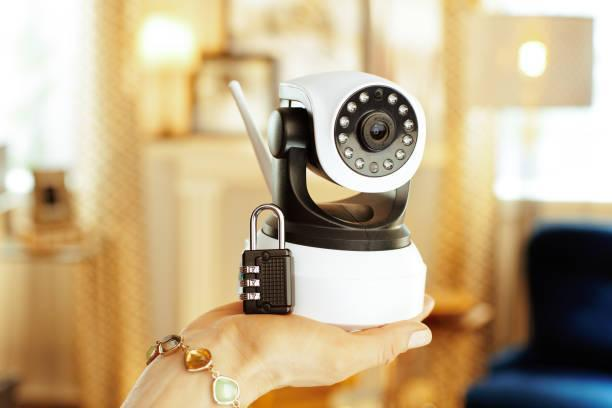camera: (200, 45, 462, 225)
